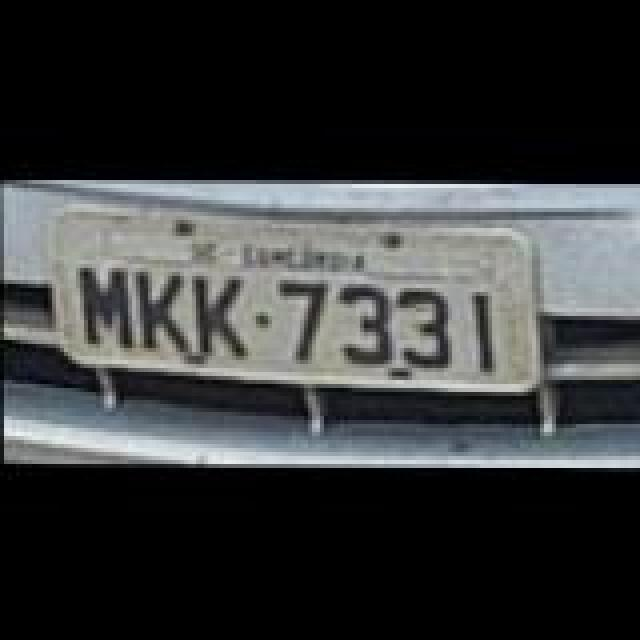1: (472, 290, 500, 370)
3: (398, 282, 454, 362), (340, 280, 392, 364)
7: (280, 278, 332, 358)
K: (194, 272, 250, 356), (140, 266, 192, 350)
M: (78, 262, 134, 346)
